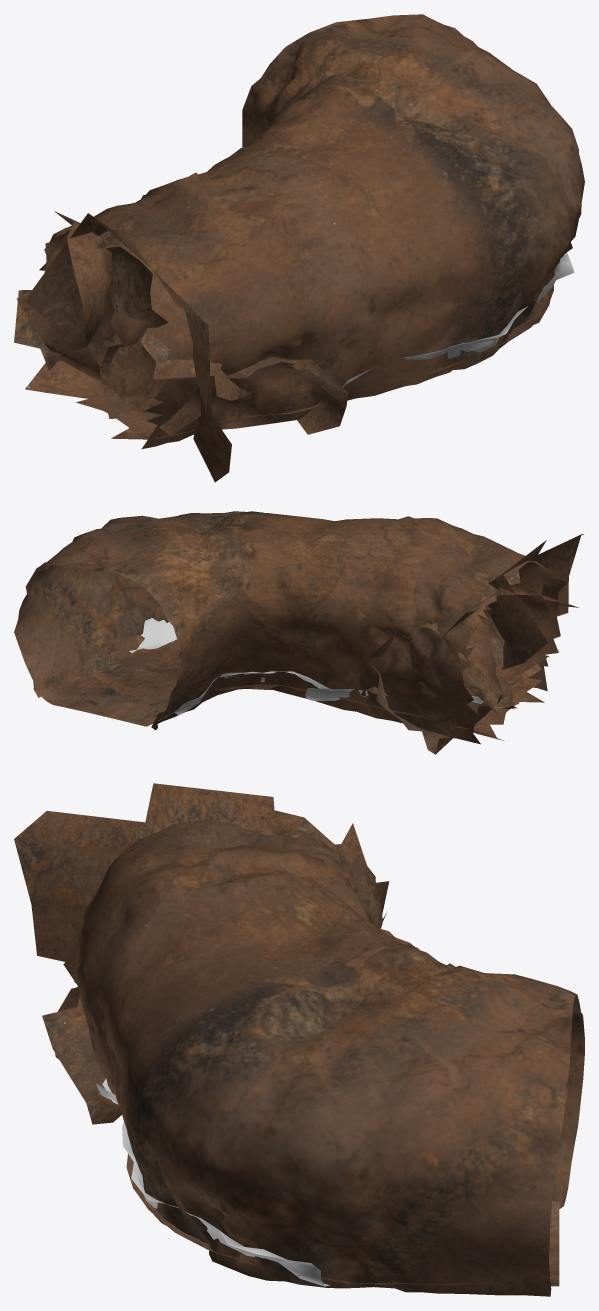
Rendered from TunelExterior.fbx.
3 views of the same model, one above another, from view 1: azimuth 30°, elevation 25°; view 2: azimuth 150°, elevation 25°; view 3: azimuth 270°, elevation 25° (orthographic). The views are drawn at different scales.
Parts seen in each view (by area): view 1: CuevaExterior, Rocas; view 2: CuevaExterior, Rocas; view 3: CuevaExterior, Rocas.
Part boxes in pixels (bbox=[...]): CuevaExterior: bbox=[25, 14, 584, 449]; Rocas: bbox=[14, 211, 348, 482]; CuevaExterior: bbox=[14, 511, 567, 744]; Rocas: bbox=[361, 534, 583, 754]; CuevaExterior: bbox=[74, 819, 584, 1296]; Rocas: bbox=[14, 783, 394, 1124].
Bounding box in the file's own units: 1329 × 507 × 977.
